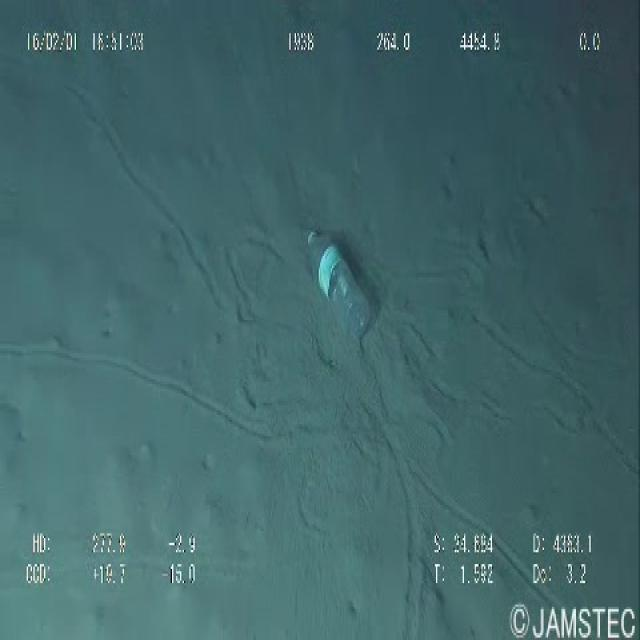plastic: (302, 216, 382, 351)
